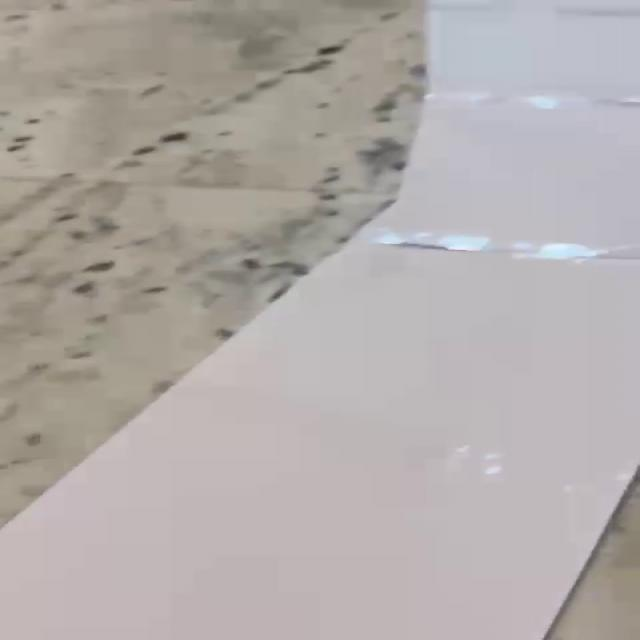road: (0, 0, 640, 640)
